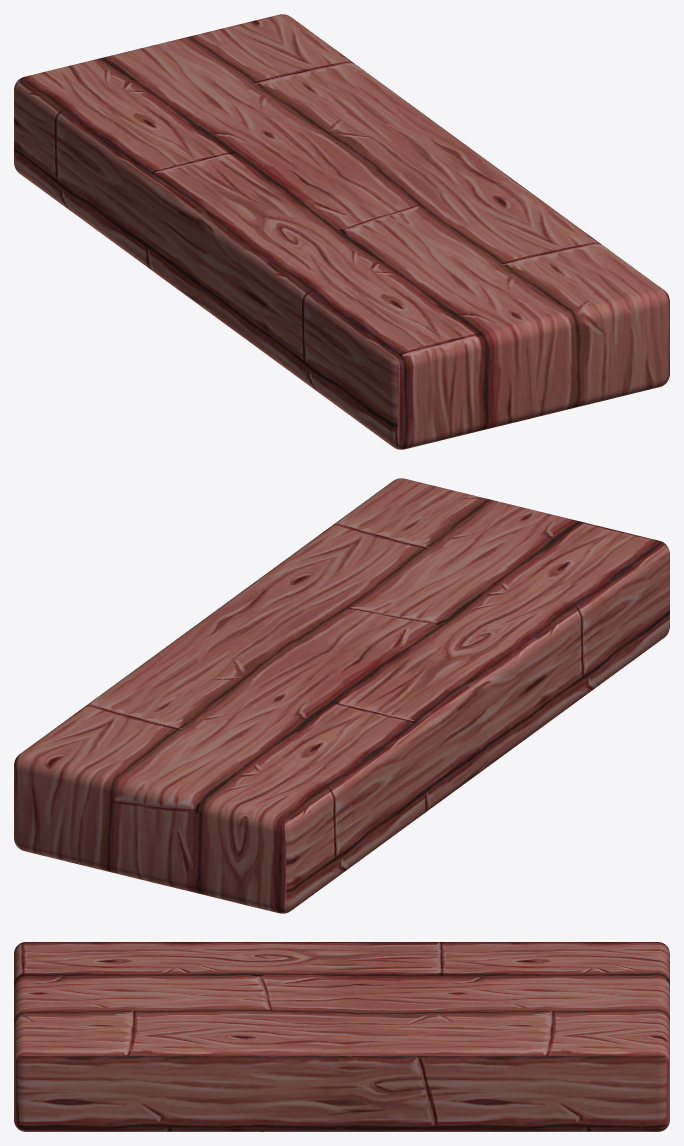
File: Marco_ventana_lat_inf.fbx
The picture shows the model from 3 angles, top to bottom: view 1: azimuth 30°, elevation 25°; view 2: azimuth 150°, elevation 25°; view 3: azimuth 270°, elevation 25°; orthographic projection. The views are drawn at different scales.
Parts seen in each view (by area): view 1: Marco_ventana; view 2: Marco_ventana; view 3: Marco_ventana.
Part boxes in pixels (x1,y1,x2,y2): Marco_ventana: (14, 14, 669, 449); Marco_ventana: (14, 478, 669, 913); Marco_ventana: (14, 942, 669, 1131).
Bounding box in the file's own units: 299 × 100 × 720.
